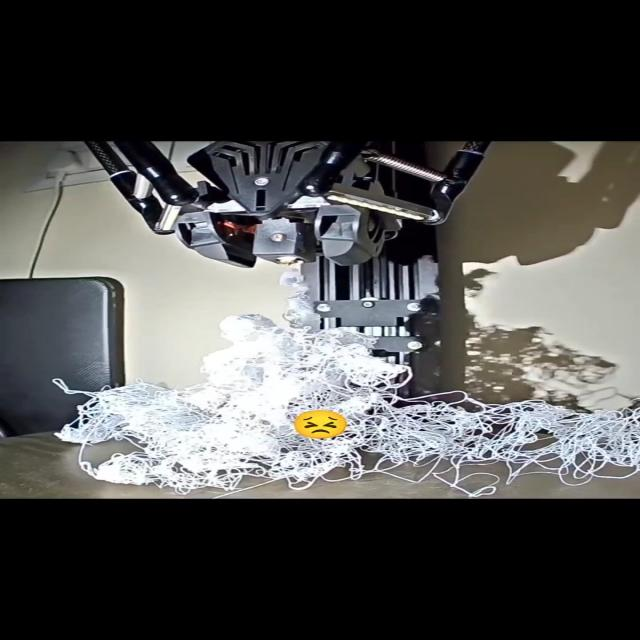spaghetti: (54, 264, 640, 497)
